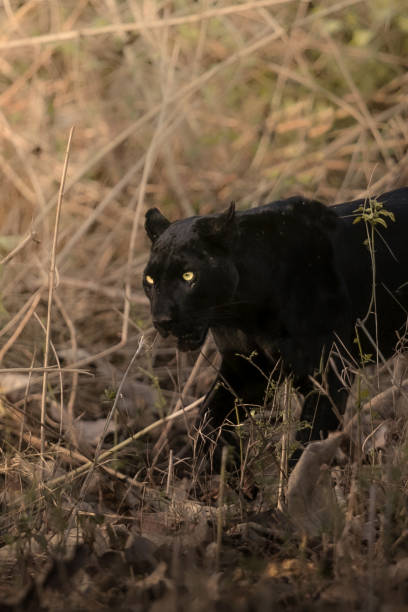panther: (124, 195, 259, 364)
